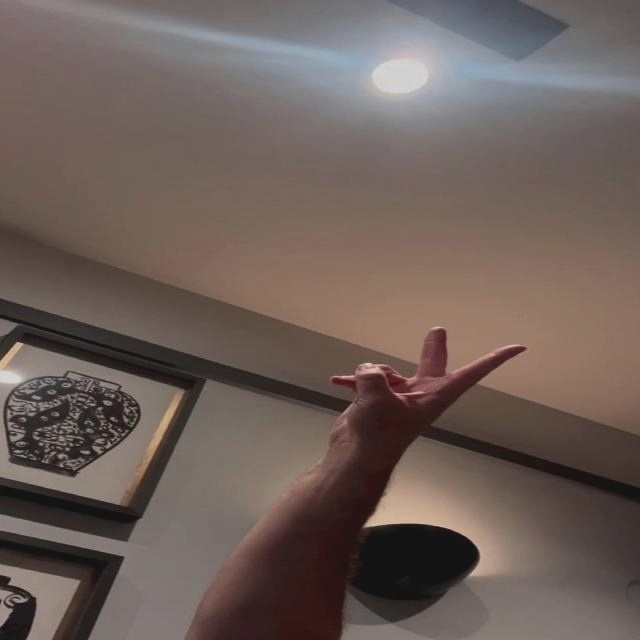Scissors: (329, 326, 533, 450)
